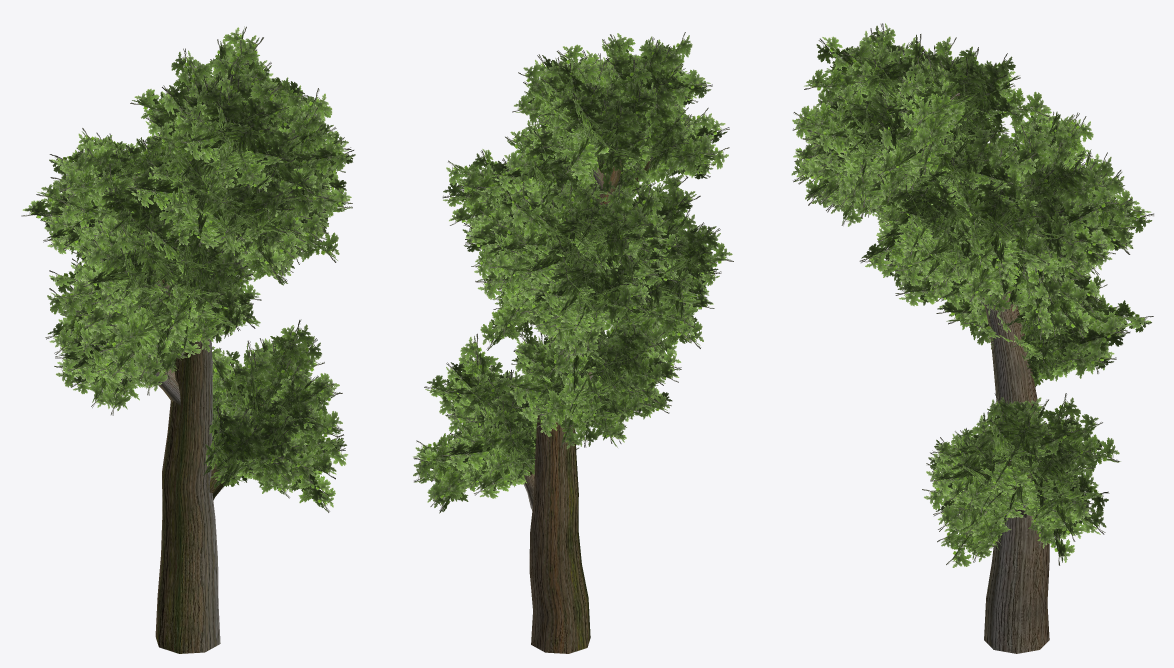
Rendered from eztree-white-oak-stand-a.glb.
3 views of the same model, side by side, from view 1: azimuth 30°, elevation 25°; view 2: azimuth 150°, elevation 25°; view 3: azimuth 270°, elevation 25° (orthographic). The views are drawn at different scales.
Visible parts, largest first — view 1: eztree-white-oak-stand-a; view 2: eztree-white-oak-stand-a; view 3: eztree-white-oak-stand-a.
Boxes of the visible parts, x1,y1,x2,y2 form: eztree-white-oak-stand-a: (21,26,355,653); eztree-white-oak-stand-a: (413,32,733,653); eztree-white-oak-stand-a: (791,23,1153,653).
Bounding box in the file's own units: 32.39 × 61.91 × 34.97.
Materials: 2 (2 with a texture image).
